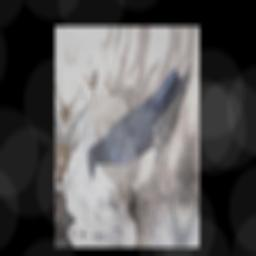Crow: (84, 58, 190, 193)
